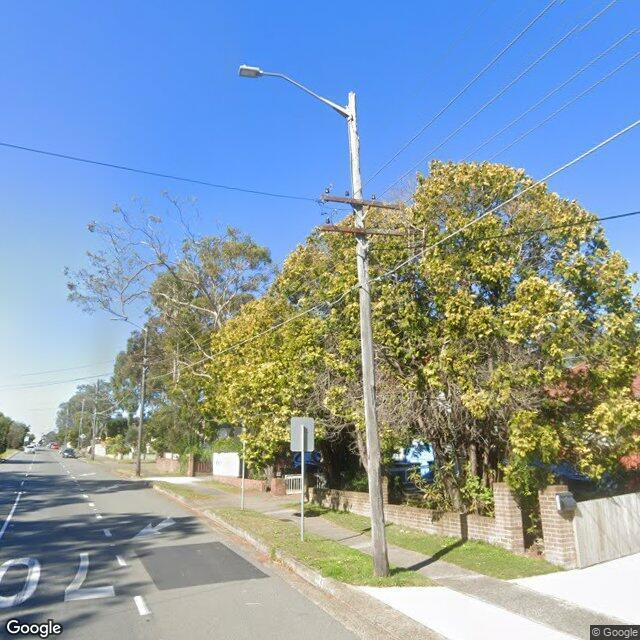crossarm: (320, 193, 404, 212), (315, 224, 405, 237)
streetlight: (237, 64, 348, 118)
timber-pole: (349, 91, 389, 575), (134, 324, 150, 476), (90, 380, 100, 459)
